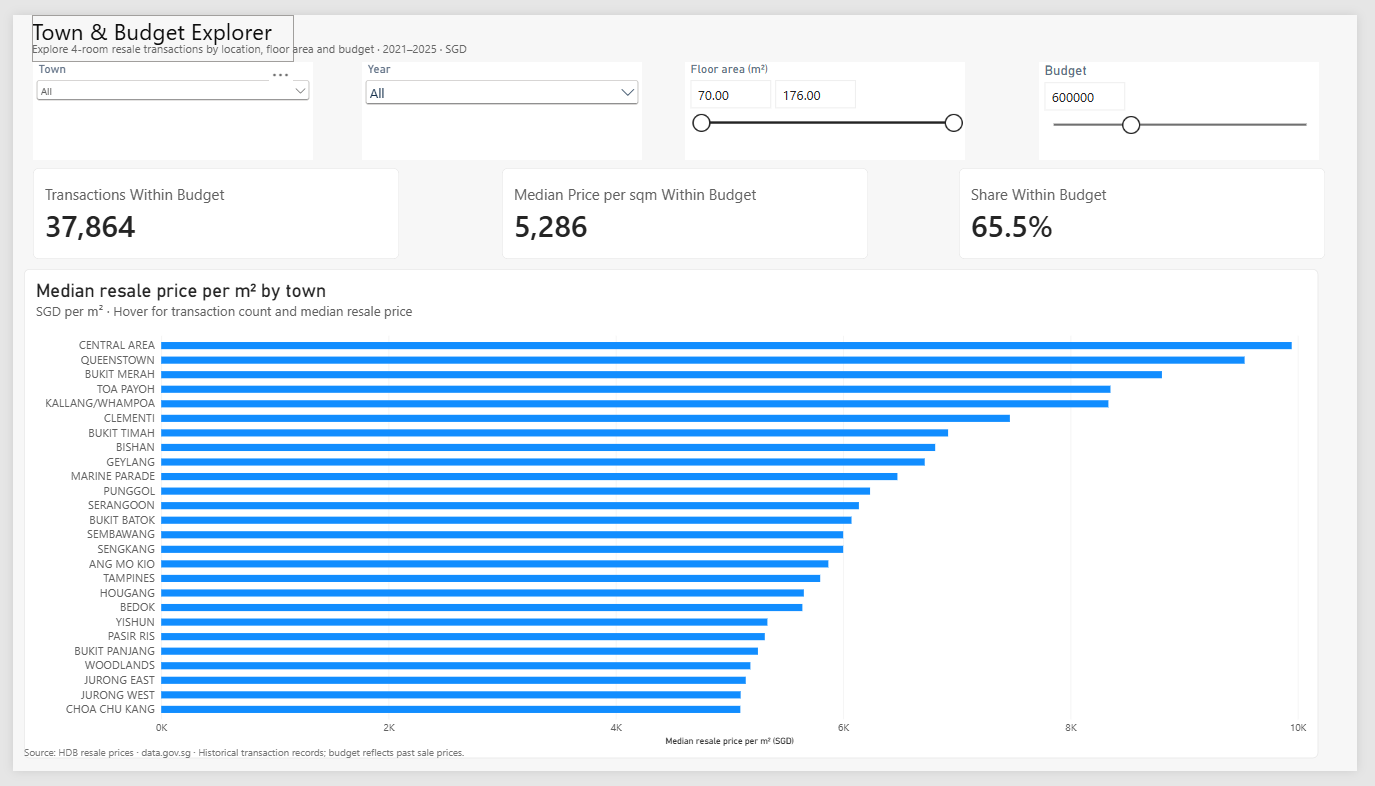

The page's visual inventory and layout, read from the dashboard file:
{"tool":"powerbi","page":{"name":"Town & Budget Explorer","canvas":[1920,1080],"ordinal":1},"visuals":[{"type":"cardVisual","fields":{"Data":["HDB.Median Price per sqm"]},"box":[698,218,523,130],"z":0},{"type":"slicer","fields":{"Values":["HDB.sale_year"]},"box":[498,67,400,140],"z":1000},{"type":"slicer","fields":{"Values":["HDB.town"]},"box":[28,67,400,140],"z":2000},{"type":"slicer","fields":{"Values":["HDB.floor_area_sqm"]},"box":[960,67,400,140],"z":3000},{"type":"slicer","fields":{"Values":["Budget.Budget"]},"box":[1465,67,400,140],"z":4000},{"type":"cardVisual","fields":{"Data":["Budget.Share Within Budget"]},"box":[1352,218,523,130],"z":5000},{"type":"cardVisual","fields":{"Data":["Budget.Transactions Within Budget"]},"box":[28,218,523,130],"z":6000},{"type":"clusteredBarChart","title":"Median resale price per m² by town","fields":{"Category":["HDB.town"],"Y":["HDB.Median Price per sqm"]},"box":[16.2,362.5,1848.8,698.8],"z":7000},{"type":"textbox","box":[27.6,0,373.6,66.6],"z":8000},{"type":"textbox","box":[27.6,37.4,834.9,29.2],"z":9000},{"type":"textbox","box":[16.2,1042.8,644.9,37.4],"z":10000}]}

Visuals, with their boxes in screenshot pixels (x1, y1, x2, y2), scaled from the page's 1920x1080 canvas onto the 1375x786 screenshot:
cardVisual - HDB.Median Price per sqm: box(500, 159, 874, 253)
slicer - HDB.sale_year: box(357, 49, 643, 151)
slicer - HDB.town: box(20, 49, 307, 151)
slicer - HDB.floor_area_sqm: box(688, 49, 974, 151)
slicer - Budget.Budget: box(1049, 49, 1336, 151)
cardVisual - Budget.Share Within Budget: box(968, 159, 1343, 253)
cardVisual - Budget.Transactions Within Budget: box(20, 159, 395, 253)
"Median resale price per m² by town" clusteredBarChart: box(12, 264, 1336, 772)
textbox: box(20, 0, 287, 48)
textbox: box(20, 27, 618, 48)
textbox: box(12, 759, 473, 785)
